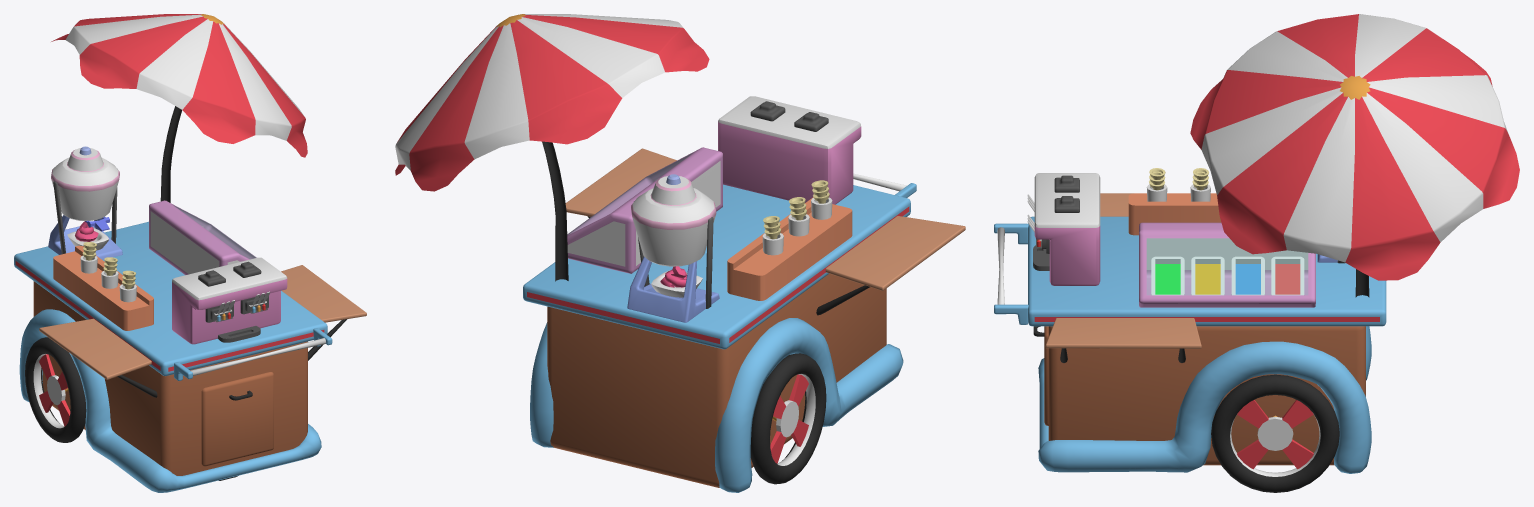
File: icecream_cart.glb
3 renders of one model, left to right at view 1: azimuth 30°, elevation 25°; view 2: azimuth 150°, elevation 25°; view 3: azimuth 270°, elevation 25°, orthographic. The views are drawn at different scales.
Visible parts, largest first — view 1: Cylinder.014_6, Body_0, Top_9, Cube.032_3, Bottom_1, Cube.037_10, Cube.035_4, Cube.036_5, Cube.030_2, Wheel_8; view 2: Body_0, Cylinder.014_6, Top_9, Bottom_1, Cube.032_3, Cube.035_4, Cube.037_10, Cube.036_5, Wheel_8, Cube.030_2; view 3: Cylinder.014_6, Body_0, Bottom_1, Top_9, Cube.030_2, Wheel_8, Cube.032_3, Cube.037_10, Cube.036_5.
Boxes of the visible parts, left/top/right/bottom form: Cylinder.014_6: left=51, top=14, right=307, bottom=202; Body_0: left=33, top=281, right=307, bottom=475; Top_9: left=14, top=221, right=332, bottom=392; Cube.032_3: left=172, top=257, right=287, bottom=344; Bottom_1: left=19, top=309, right=321, bottom=492; Cube.037_10: left=39, top=265, right=366, bottom=397; Cube.035_4: left=48, top=146, right=122, bottom=259; Cube.036_5: left=53, top=242, right=153, bottom=330; Cube.030_2: left=149, top=200, right=256, bottom=274; Wheel_8: left=25, top=337, right=86, bottom=442; Body_0: left=547, top=273, right=886, bottom=487; Cylinder.014_6: left=395, top=14, right=709, bottom=281; Top_9: left=523, top=173, right=916, bottom=421; Bottom_1: left=530, top=318, right=903, bottom=492; Cube.032_3: left=718, top=96, right=861, bottom=204; Cube.035_4: left=627, top=174, right=719, bottom=322; Cube.037_10: left=565, top=148, right=965, bottom=315; Cube.036_5: left=727, top=180, right=852, bottom=300; Wheel_8: left=750, top=353, right=826, bottom=484; Cube.030_2: left=567, top=147, right=722, bottom=273; Cylinder.014_6: left=1190, top=14, right=1519, bottom=297; Body_0: left=1033, top=326, right=1365, bottom=465; Bottom_1: left=1038, top=326, right=1371, bottom=473; Top_9: left=994, top=216, right=1386, bottom=416; Cube.030_2: left=1139, top=222, right=1315, bottom=307; Wheel_8: left=1211, top=374, right=1339, bottom=492; Cube.032_3: left=1027, top=173, right=1100, bottom=285; Cube.037_10: left=1045, top=193, right=1201, bottom=362; Cube.036_5: left=1128, top=168, right=1221, bottom=235.
Size of the model in its own units: 2.95 by 3.21 by 3.63.
